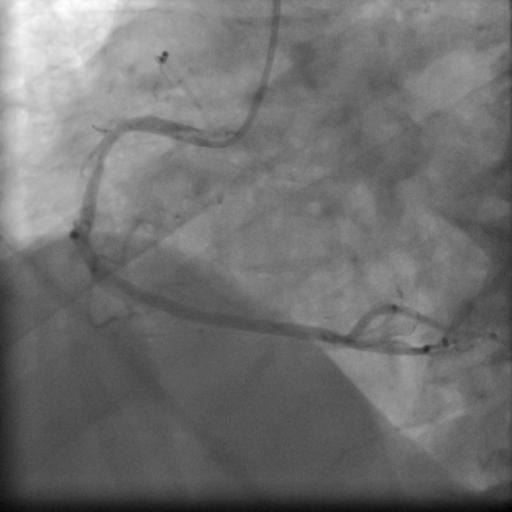Stenosis: (78, 123, 115, 261)
